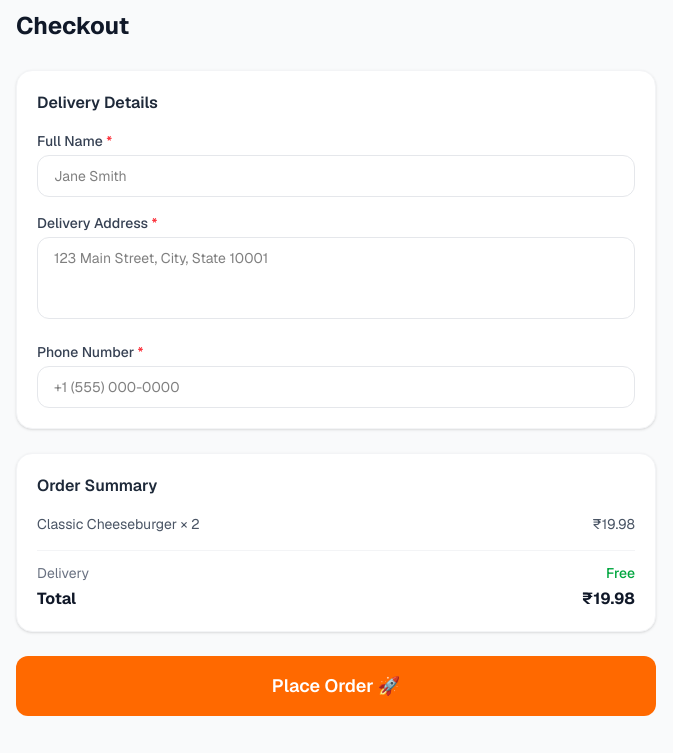
Test: CheckoutPage › shows phone number format validation error
In the field labelled "Full Name *": (336, 176) [37,155,635,197], type "John Doe"
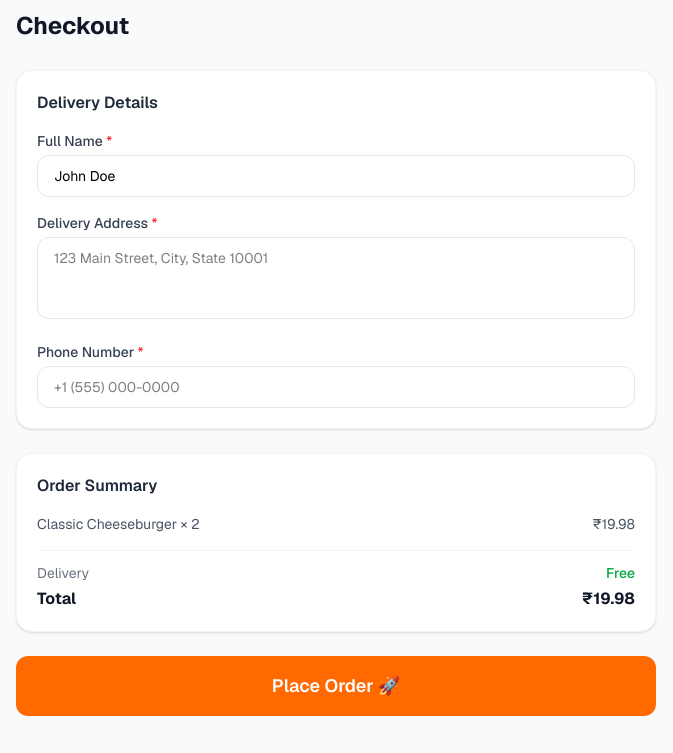
In the text box labelled "Delivery Address *": (336, 278) [37,237,635,319], type "123 Test St"
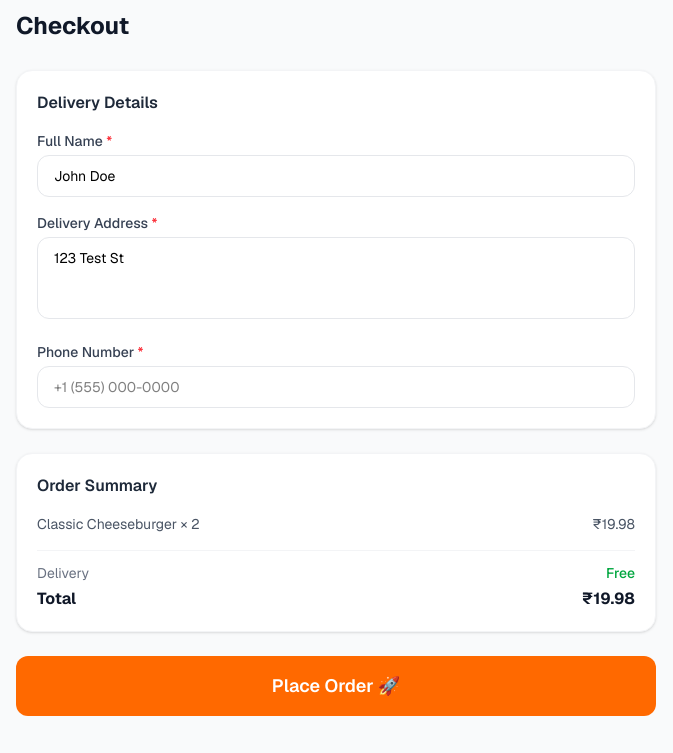
In the field labelled "Phone Number *": (336, 387) [37,366,635,408], type "123"
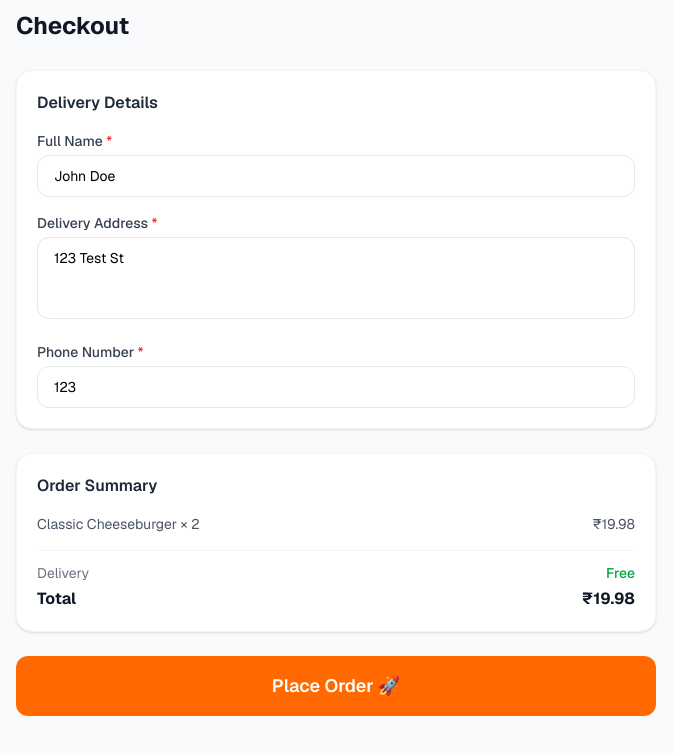
Click the button "Place Order 🚀": (336, 686) [16,656,656,716]
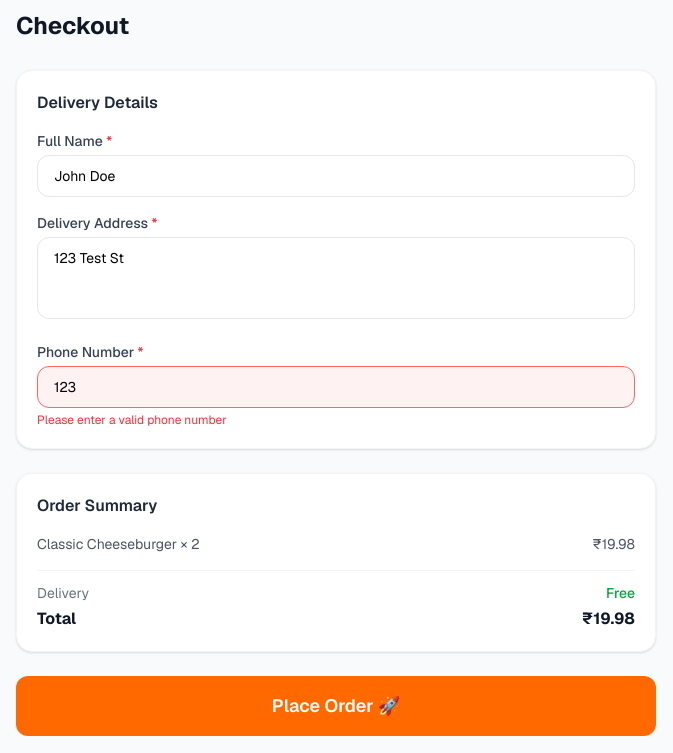
Expected: the text "Please enter a valid phone number" is shown, [37,412,227,428]
